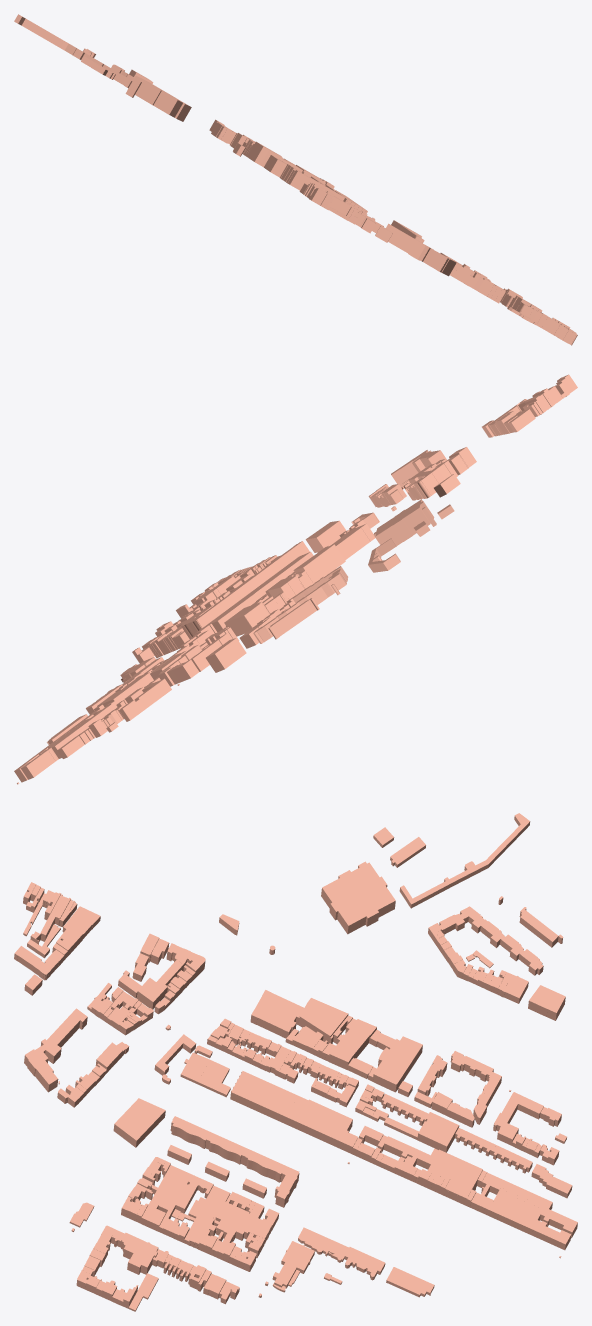
3 renders of one model, top to bottom at view 1: azimuth 30°, elevation 25°; view 2: azimuth 150°, elevation 25°; view 3: azimuth 270°, elevation 25°, orthographic. The views are drawn at different scales.
Bounding box in the file's own units: 542 × 391 × 653.
